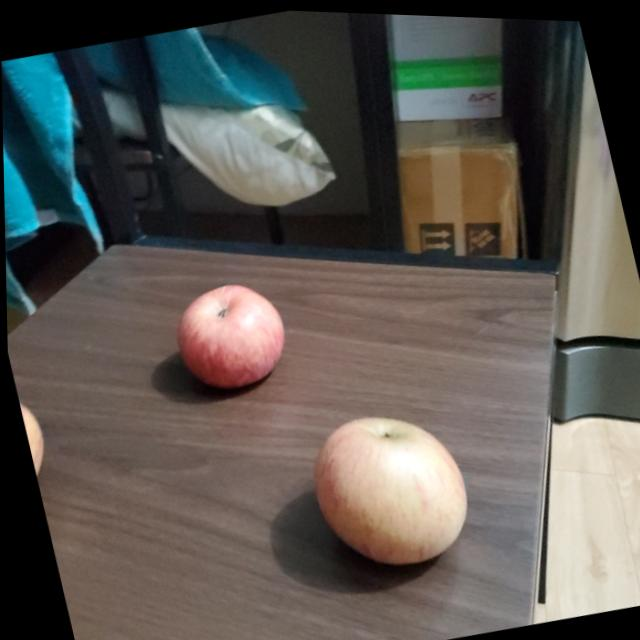apple: (304, 397, 481, 583), (166, 270, 294, 395), (13, 379, 59, 503)
